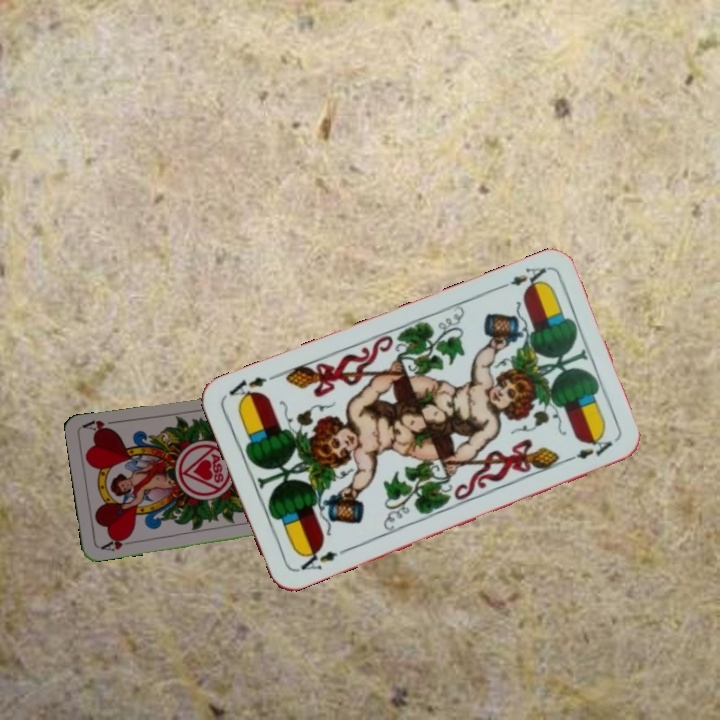EA: (292, 543, 349, 575), (493, 263, 549, 294)
HA: (97, 532, 136, 554)
